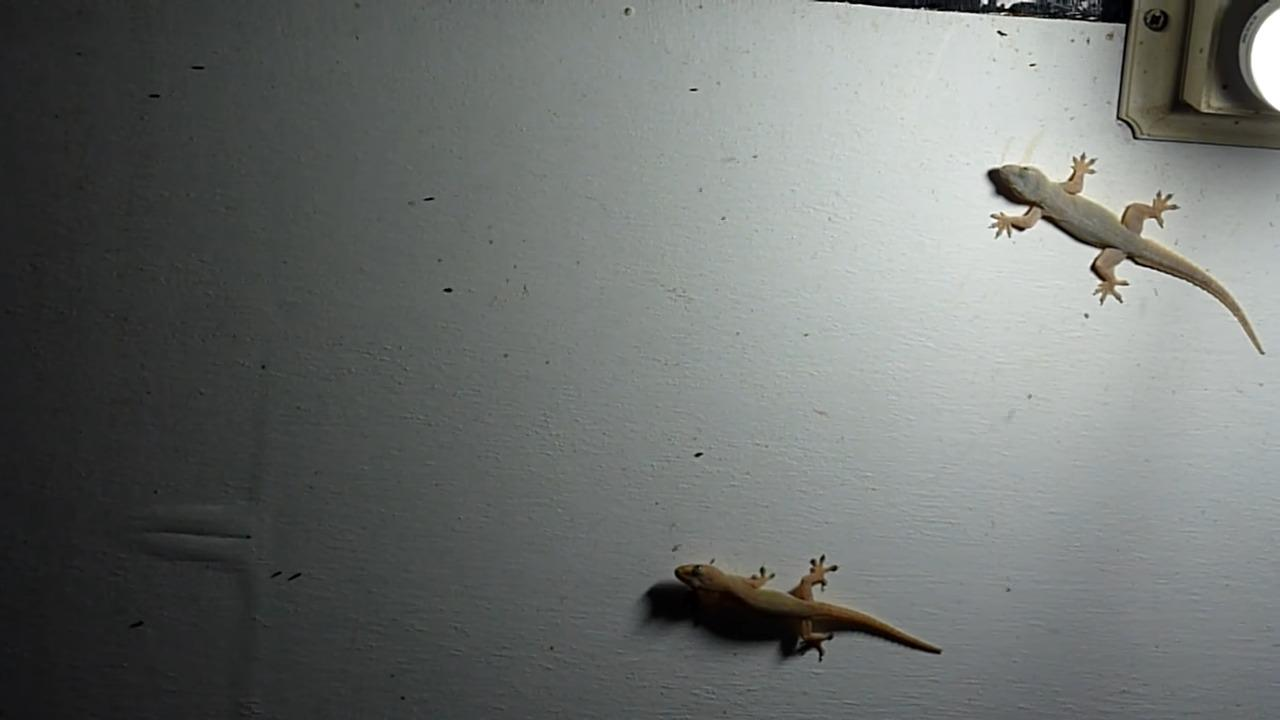lizard: (969, 140, 1275, 358), (658, 539, 987, 676)
